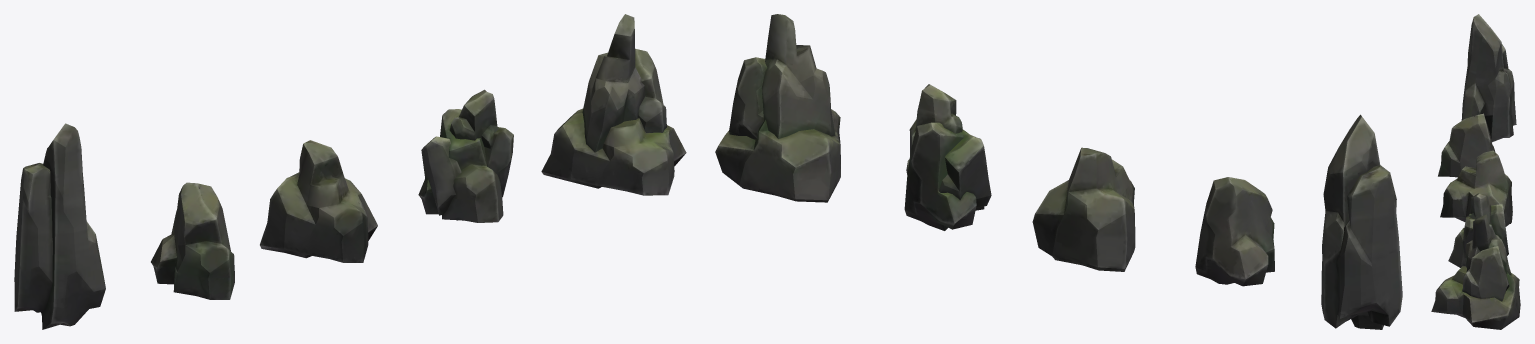
The model's file is forest_rocks.glb.
3 views of the same model, side by side, from view 1: azimuth 30°, elevation 25°; view 2: azimuth 150°, elevation 25°; view 3: azimuth 270°, elevation 25° (orthographic). The views are drawn at different scales.
Visible parts, largest first — view 1: Rock_4; view 2: Rock_4; view 3: Rock_4.
Boxes of the visible parts, x1,y1,x2,y2 form: Rock_4: [14, 14, 686, 329]; Rock_4: [715, 14, 1402, 329]; Rock_4: [1431, 14, 1520, 329].
Size of the model in its own units: 7.28 by 2.15 by 1.32.
Materials: 1 (1 with a texture image).
